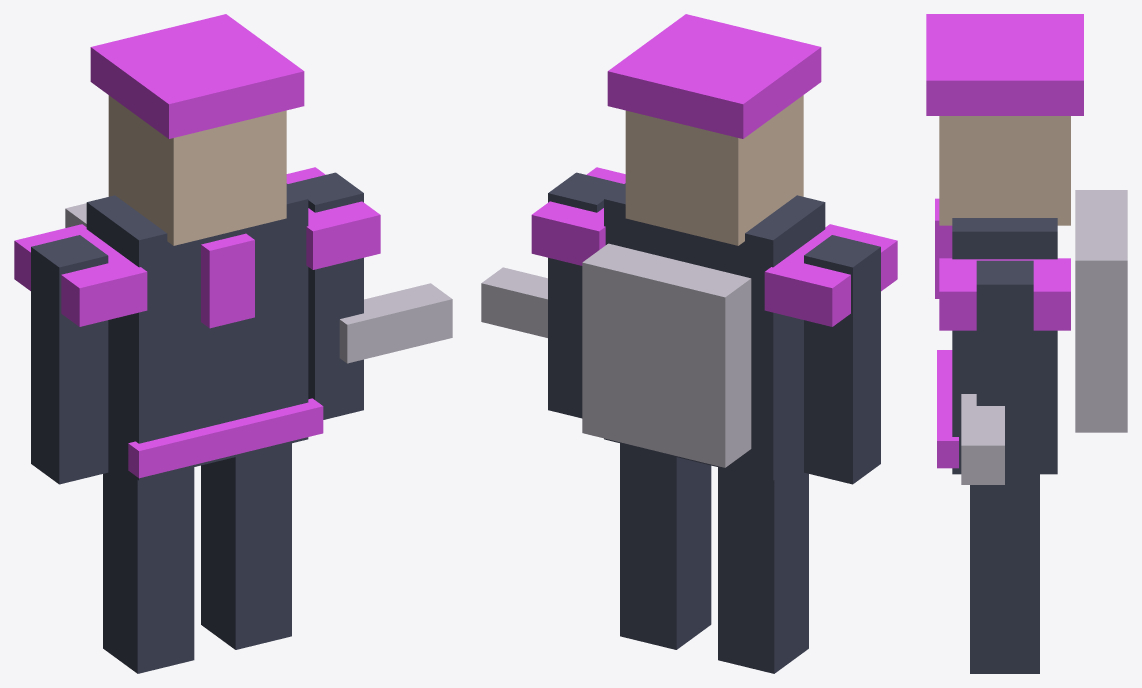
File: 12_maven_echohand_tamer_under_tactical.glb
3 views of the same model, side by side, from view 1: azimuth 30°, elevation 25°; view 2: azimuth 150°, elevation 25°; view 3: azimuth 270°, elevation 25° (orthographic).
Visible parts, largest first — view 1: Maven Echohand, Tamer under Tactical; view 2: Maven Echohand, Tamer under Tactical; view 3: Maven Echohand, Tamer under Tactical.
Part boxes in pixels (bbox=[...]): Maven Echohand, Tamer under Tactical: bbox=[14, 14, 452, 673]; Maven Echohand, Tamer under Tactical: bbox=[481, 14, 897, 673]; Maven Echohand, Tamer under Tactical: bbox=[926, 14, 1127, 673].
Bounding box in the file's own units: 1.06 × 1.54 × 0.4775.
